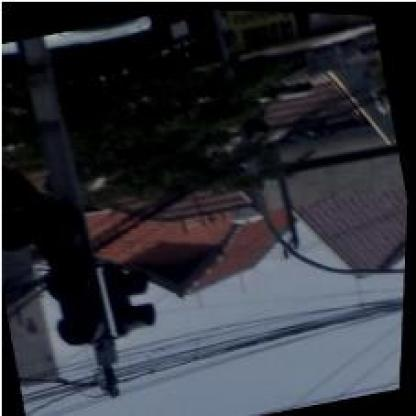green: (31, 204, 116, 349)
